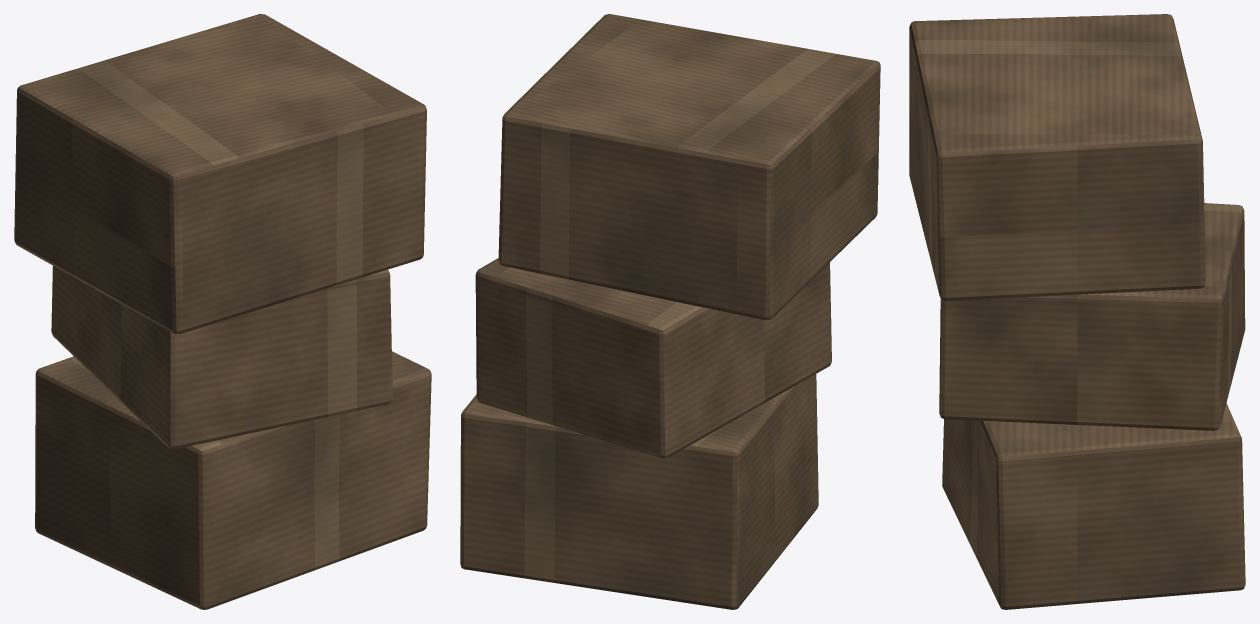
Rendered from F07_cardboard_box_stack_v2.glb.
3 renders of one model, left to right at view 1: azimuth 30°, elevation 25°; view 2: azimuth 150°, elevation 25°; view 3: azimuth 270°, elevation 25°, orthographic. The views are drawn at different scales.
Visible parts, largest first — view 1: F07_cardboard_box_stack_v2; view 2: F07_cardboard_box_stack_v2; view 3: F07_cardboard_box_stack_v2.
Part boxes in pixels (<box>): F07_cardboard_box_stack_v2: <box>14,14,431,609</box>; F07_cardboard_box_stack_v2: <box>460,14,880,609</box>; F07_cardboard_box_stack_v2: <box>909,14,1245,609</box>.
Size of the model in its own units: 0.7393 by 1 by 0.6769.
Materials: 2 (2 with a texture image).
